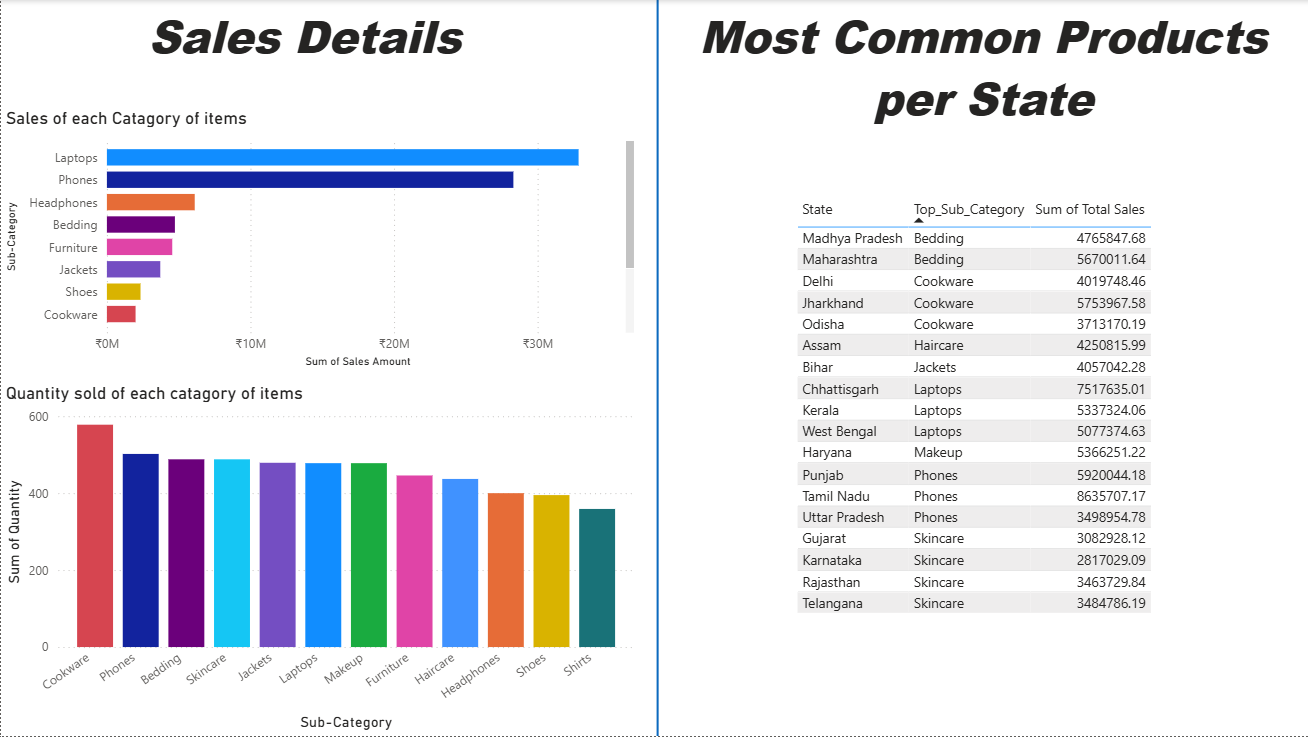

The dashboard page shown, as its layout file describes it:
{"tool":"powerbi","page":{"name":"Page 2","canvas":[1280,720],"ordinal":1},"visuals":[{"type":"columnChart","title":"Quantity sold of each catagory of items","fields":{"Category":["Sheet1.Sub-Category"],"Y":["Sum(Sheet1.Quantity)"],"Series":["Sheet1.Sub-Category"]},"box":[0,374.6,624.4,345.8],"z":0},{"type":"textbox","box":[140,0,369.1,83.7],"z":1},{"type":"barChart","title":"Sales of each Catagory of items","fields":{"Category":["Sheet1.Sub-Category","Sheet1.Product Name"],"Y":["Sum(Sheet1.Sales Amount)"],"Series":["Sheet1.Sub-Category"]},"box":[0,105.7,624.4,259.3],"z":2},{"type":"shape","box":[634,0,17.8,720.4],"z":3},{"type":"textbox","box":[676.5,0,569.5,145.5],"z":4},{"type":"tableEx","fields":{"Values":["StateSalesSummary.State","StateSalesSummary.Top_Sub_Category","Sum(StateSalesSummary.Total Sales)"]},"box":[772.6,188,378.7,459.7],"z":5}]}

Visuals, with their boxes in screenshot pixels (x1, y1, x2, y2), scaled from the page's 1280x720 canvas onto the 1308x737 screenshot:
"Quantity sold of each catagory of items" columnChart: bbox=[0, 383, 638, 736]
textbox: bbox=[143, 0, 520, 86]
"Sales of each Catagory of items" barChart: bbox=[0, 108, 638, 374]
shape: bbox=[648, 0, 666, 736]
textbox: bbox=[691, 0, 1273, 149]
tableEx - StateSalesSummary.State x StateSalesSummary.Top_Sub_Category: bbox=[790, 192, 1176, 663]
